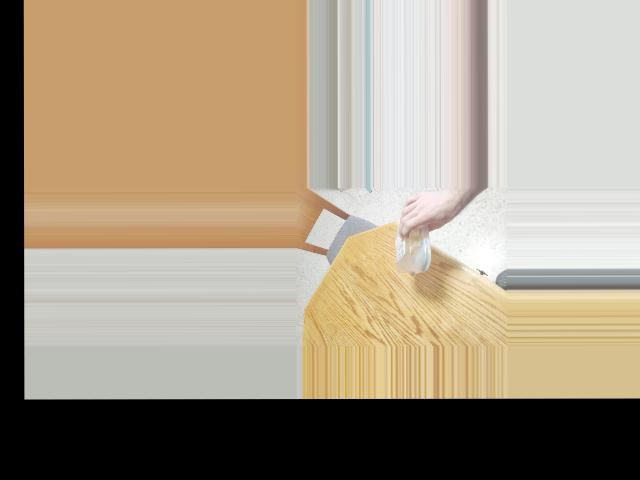cheese: (385, 213, 444, 279)
